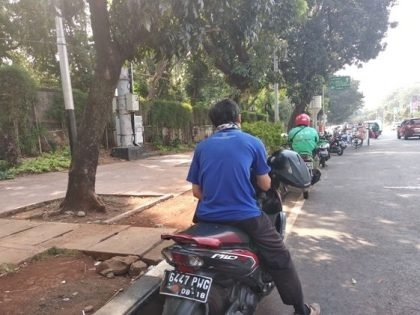plate: (160, 269, 211, 302)
